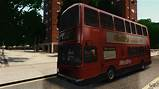bus: (57, 7, 152, 84)
